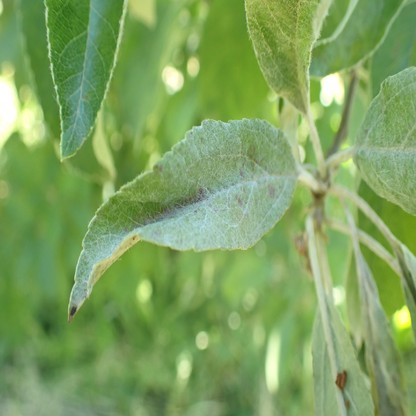frogeye: (336, 371, 348, 388)
powder: (67, 117, 299, 324), (245, 0, 333, 110), (353, 68, 416, 217)
